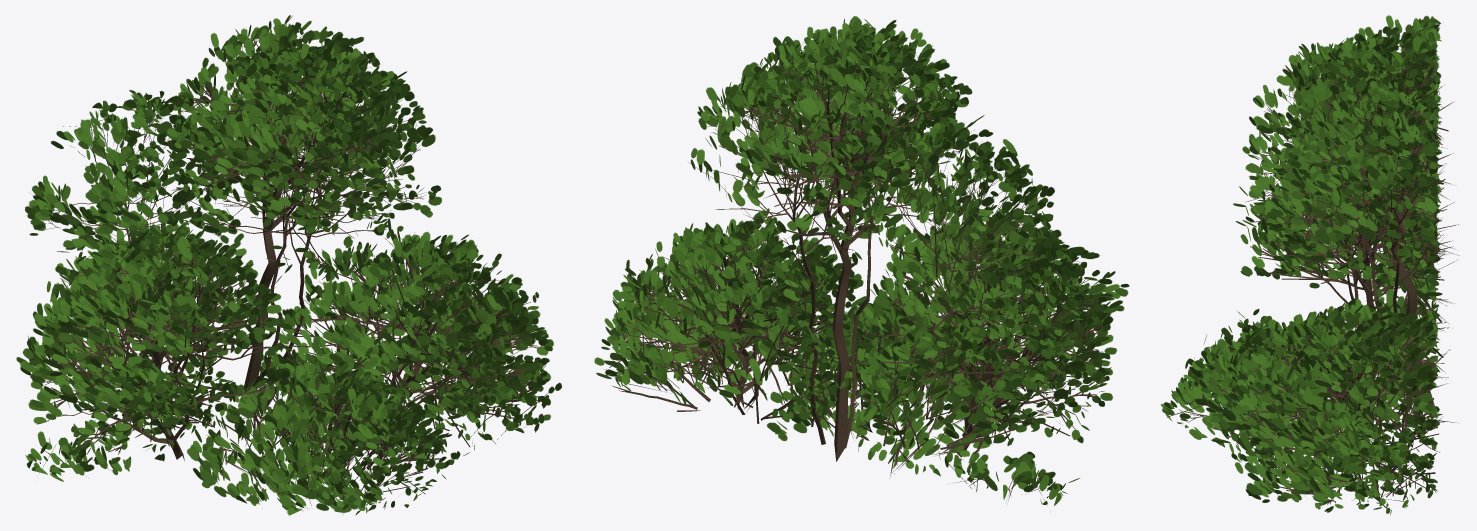
The picture shows the model from 3 angles, left to right: view 1: azimuth 30°, elevation 25°; view 2: azimuth 150°, elevation 25°; view 3: azimuth 270°, elevation 25°; orthographic projection. The views are drawn at different scales.
Parts seen in each view (by area): view 1: oak 01.001_trunk_Mat.001_0.327; view 2: oak 01.001_trunk_Mat.001_0.327; view 3: oak 01.001_trunk_Mat.001_0.327.
Boxes of the visible parts, x1,y1,x2,y2 form: oak 01.001_trunk_Mat.001_0.327: (16, 15, 561, 515); oak 01.001_trunk_Mat.001_0.327: (594, 16, 1129, 505); oak 01.001_trunk_Mat.001_0.327: (1161, 15, 1459, 514).
Size of the model in its own units: 6.28 by 5.02 by 3.48.
2 materials, 1 textured.
